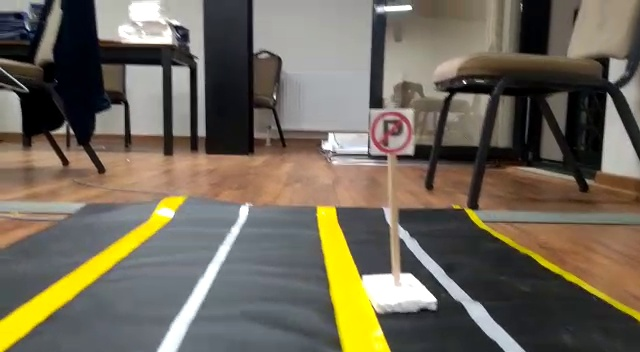park_yapilmaz: (371, 109, 414, 155)
